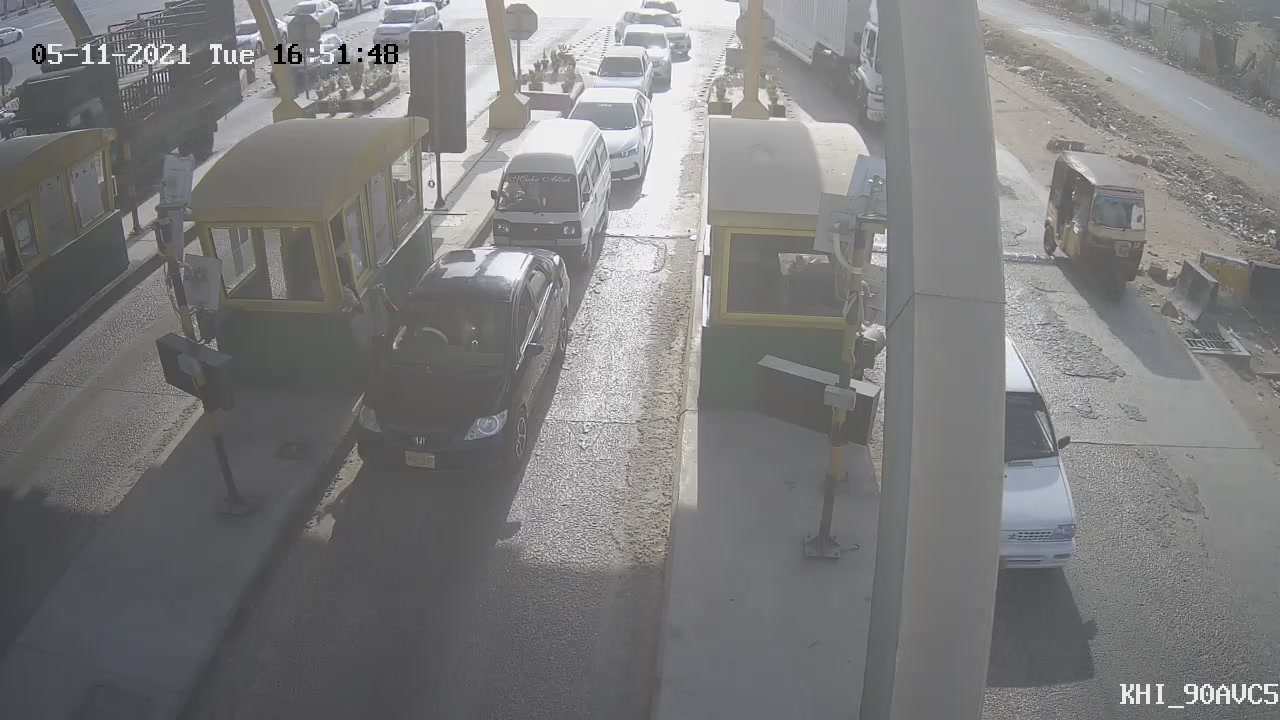F1: (330, 229, 591, 508), (473, 103, 627, 295)
